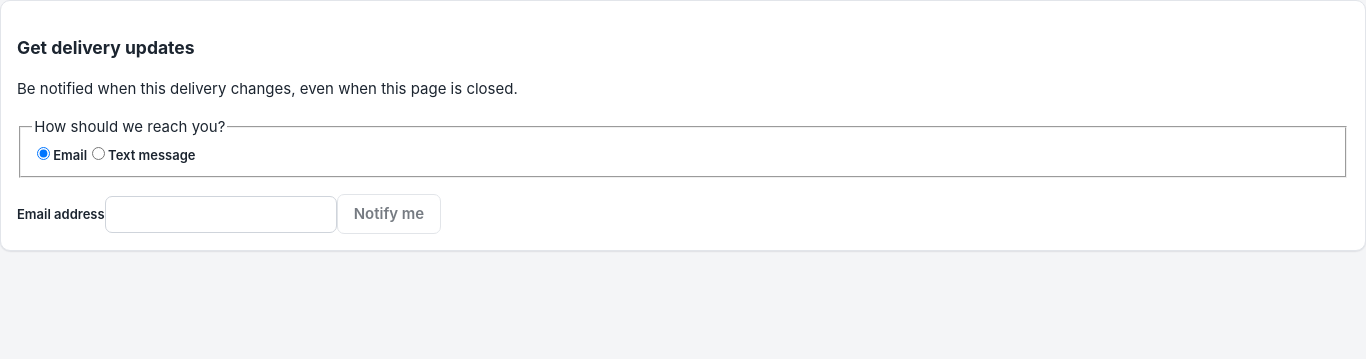
NotificationOptIn › shows a rejected target inline without leaving the form
Expected: the heading "Get delivery updates" is shown, [17,36,195,58]
In the field labelled "Email address": (221, 214) [105,196,337,233], type "not-an-email"
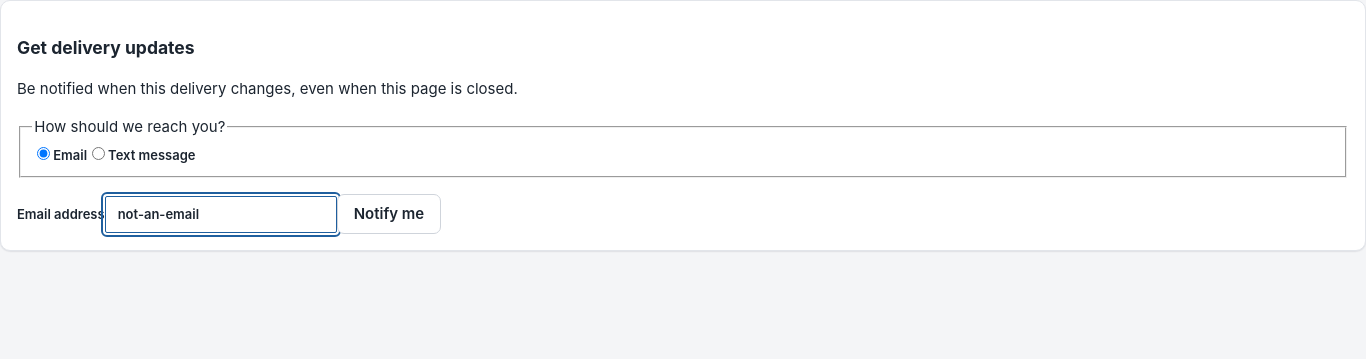
Click the button "Notify me": (389, 214) [337,194,441,234]
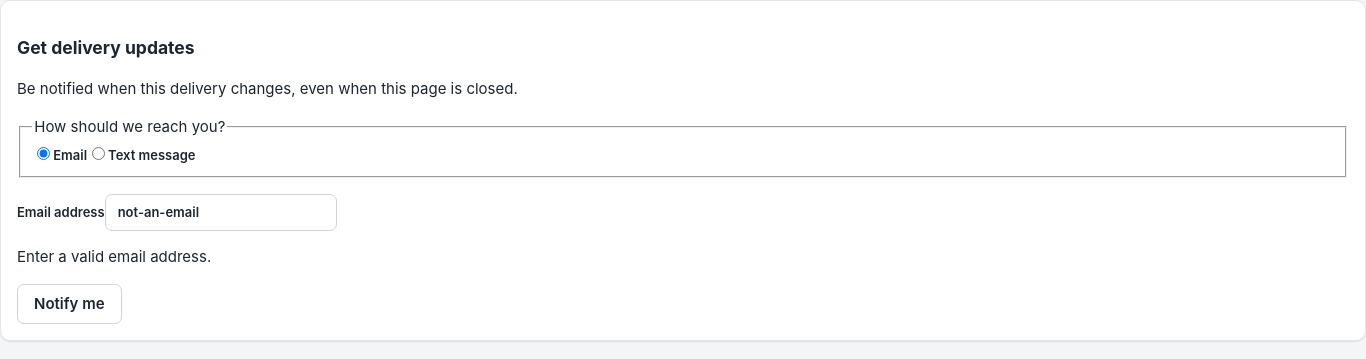
Expected: the button "Notify me" is shown, [17,284,122,324]
Result: the message reads "Enter a valid email address." at [17,247,211,266]
